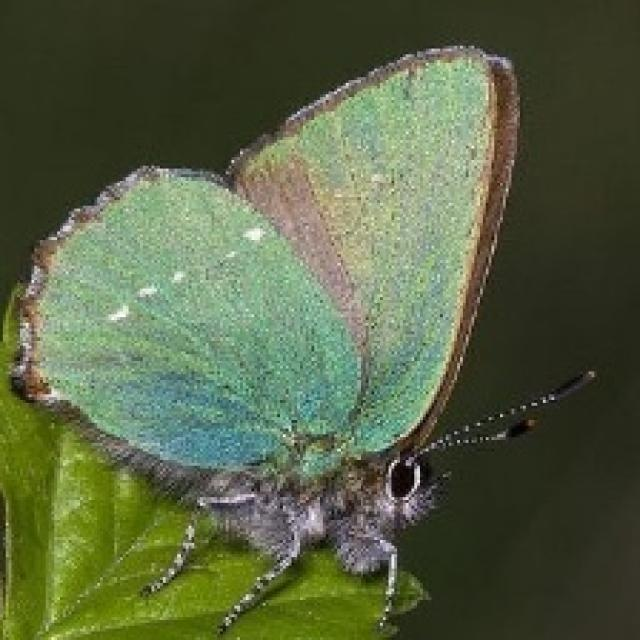butterfly: (6, 40, 597, 637)
